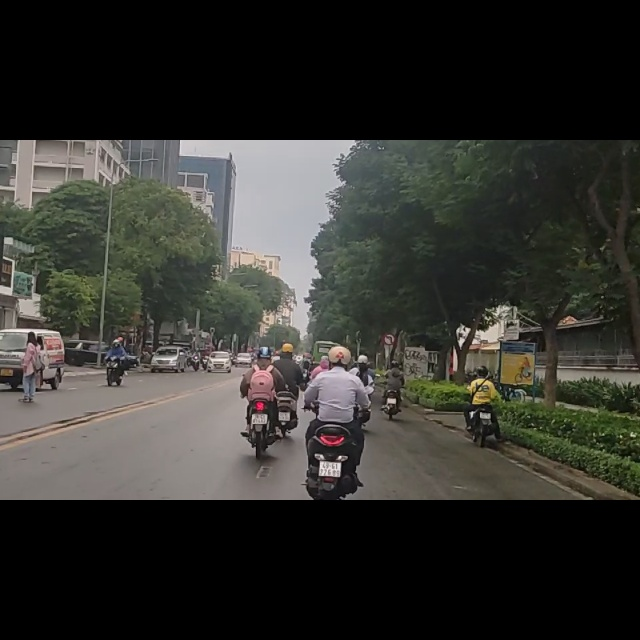Cấm rẽ trái: (384, 333, 395, 345)
